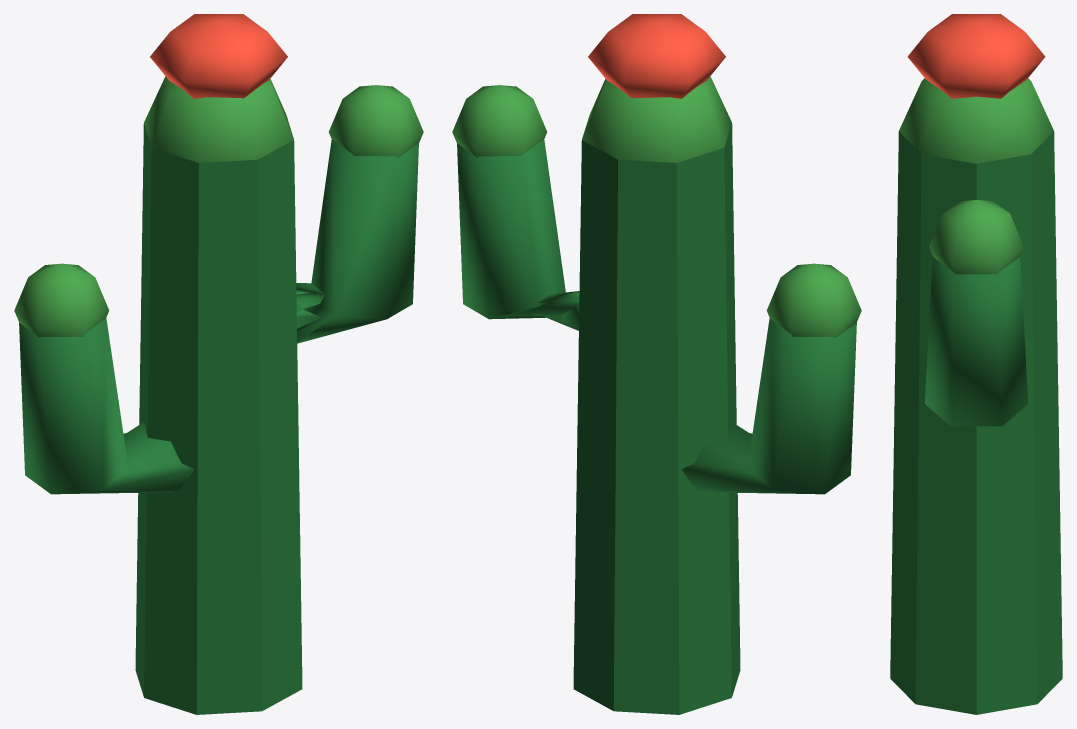
Rendered from desierto_cactus.obj.
3 views of the same model, side by side, from view 1: azimuth 30°, elevation 25°; view 2: azimuth 150°, elevation 25°; view 3: azimuth 270°, elevation 25° (orthographic).
Visible parts, largest first — view 1: desierto_cactus; view 2: desierto_cactus; view 3: desierto_cactus.
Part boxes in pixels (x1,y1,x2,y2): desierto_cactus: (14,14,423,714); desierto_cactus: (452,14,861,714); desierto_cactus: (890,14,1062,714).
Bounding box in the file's own units: 1.03 × 1.68 × 0.4.
